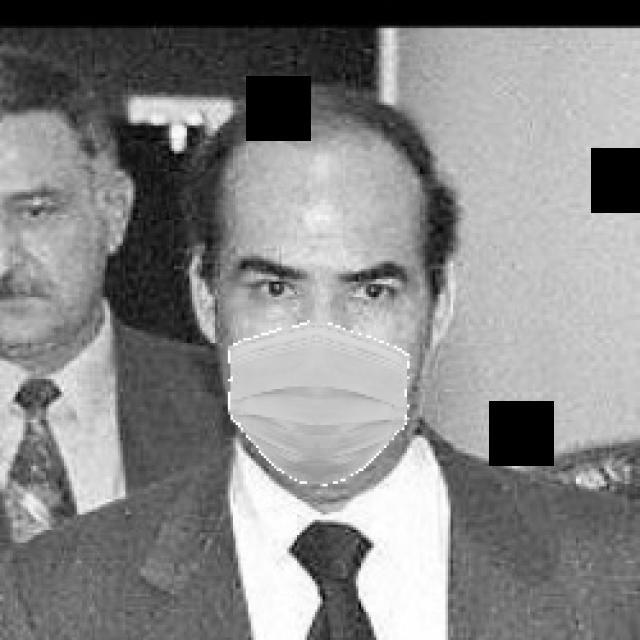surgical: (228, 183, 426, 494)
